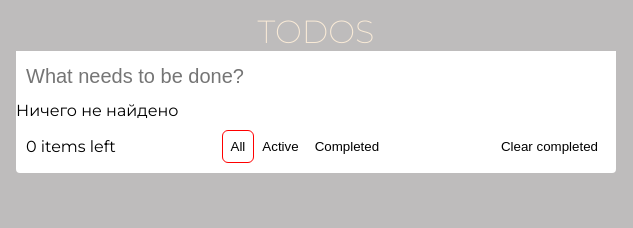
Scenario: Todo App › should clear completed tasks when clicking "Clear completed"
Type "Task to clear" into the field with placeholder "What needs to be done?". click: coordinates (316, 76)
box: x1=16 y1=51 x2=616 y2=101
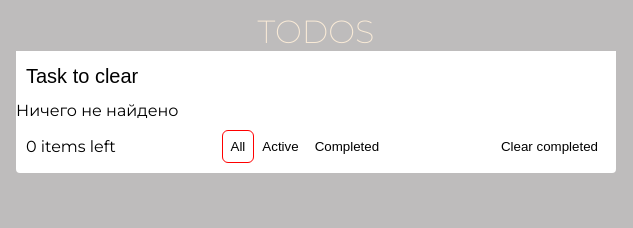
Press Enter in the field with placeholder "What needs to be done?", box x1=16 y1=51 x2=616 y2=101
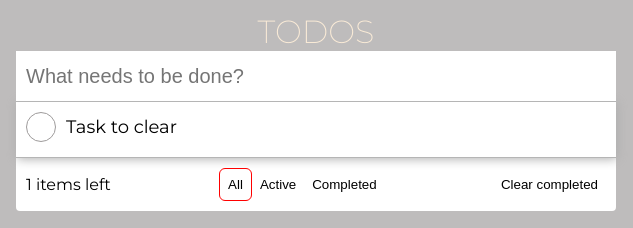
Click the checkbox. click: coordinates (101, 127)
box: x1=26 y1=112 x2=177 y2=142
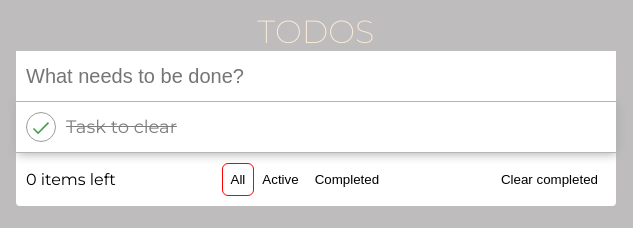
Click the button "Clear completed". click: coordinates (549, 180)
box: x1=493 y1=164 x2=606 y2=195
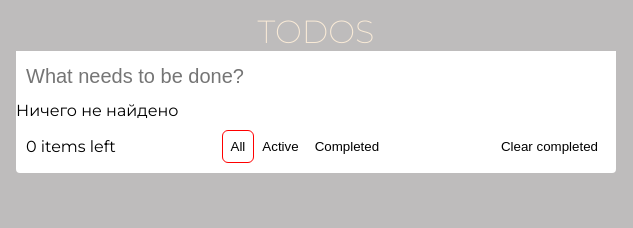
Now the text "Task to clear" is gone
